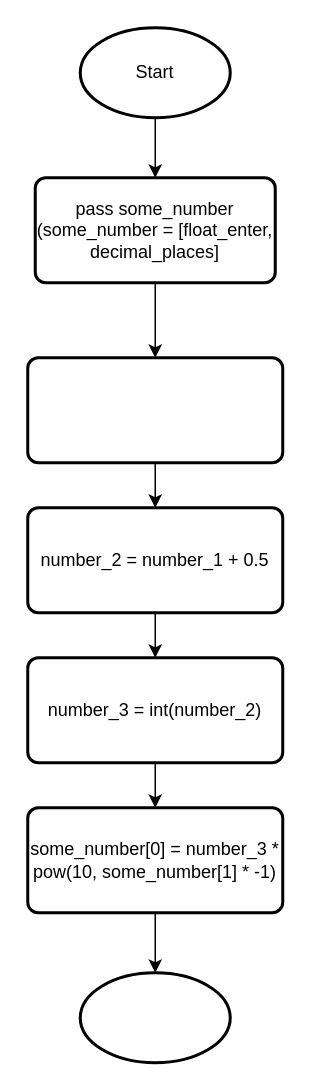
The diagram is 309 pixels wide and 1089 high, and some of its shapes have lost their labels. The shapes that lost their labels are listed below. From the top down, each one's box as (x1, y1, x2, y2) in pixels, then its label:
(26, 356, 284, 464): number_1 = some_number[0] * pow(10, some_number[1])
(78, 970, 231, 1064): Stop
